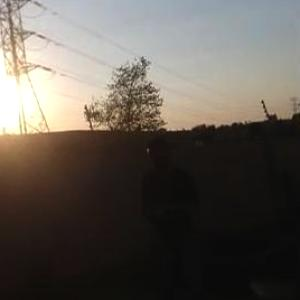follow: (133, 130, 210, 299)
